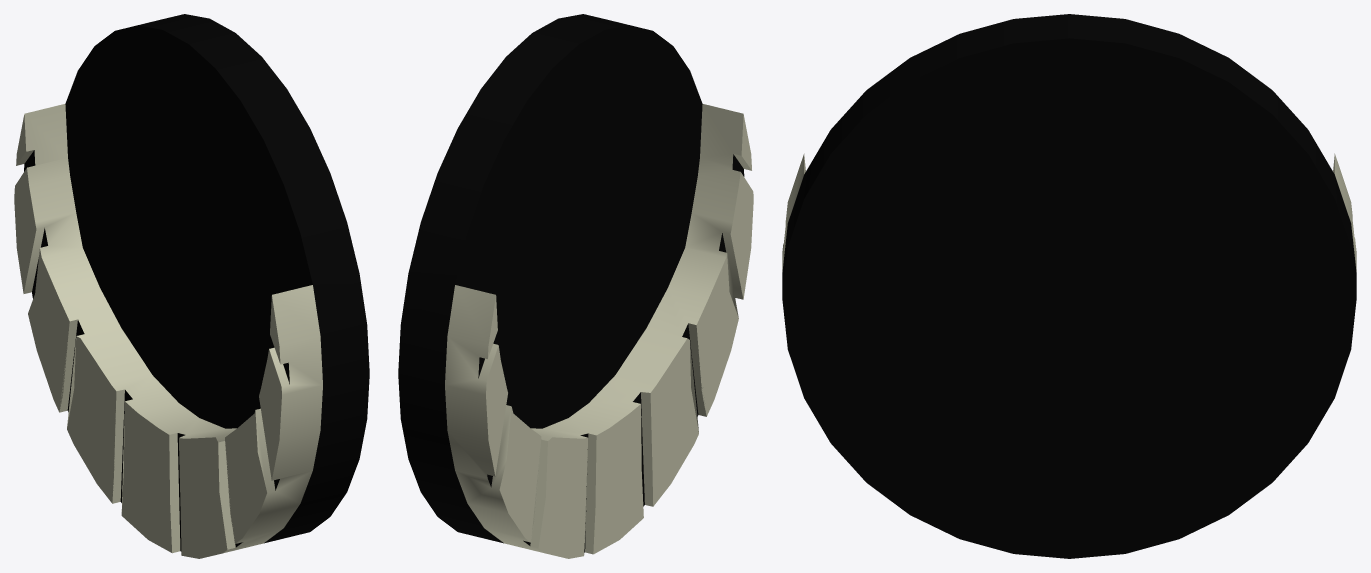
Rendered from SM_Cheshire_Wheel.fbx.
3 renders of one model, left to right at view 1: azimuth 30°, elevation 25°; view 2: azimuth 150°, elevation 25°; view 3: azimuth 270°, elevation 25°, orthographic. The views are drawn at different scales.
Parts seen in each view (by area): view 1: Cheshire Wheel; view 2: Cheshire Wheel; view 3: Cheshire Wheel.
Part boxes in pixels (x1=…): Cheshire Wheel: x1=14, y1=14, x2=369, y2=558; Cheshire Wheel: x1=398, y1=14, x2=753, y2=558; Cheshire Wheel: x1=782, y1=14, x2=1356, y2=558.
Bounding box in the file's own units: 17.78 × 94.06 × 94.06.
